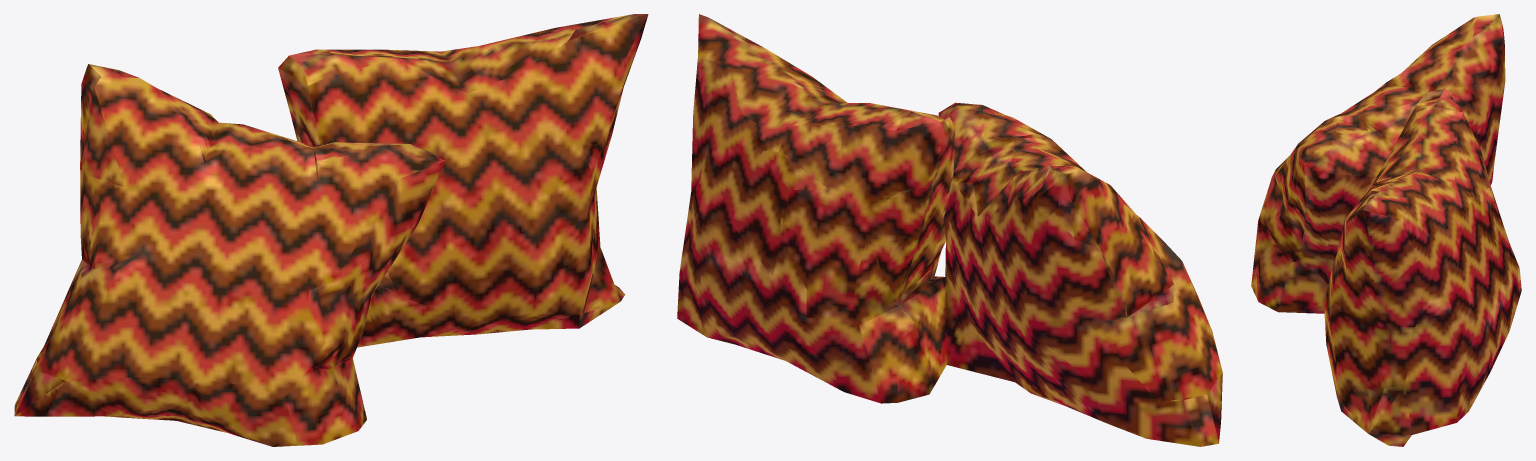
The model's file is throw_pillows_01.glb.
The picture shows the model from 3 angles, left to right: view 1: azimuth 30°, elevation 25°; view 2: azimuth 150°, elevation 25°; view 3: azimuth 270°, elevation 25°; orthographic projection. The views are drawn at different scales.
Visible parts, largest first — view 1: mesh; view 2: mesh; view 3: mesh.
Part boxes in pixels (x1,y1,x2,y2): mesh: (14, 14, 648, 446); mesh: (677, 14, 1222, 446); mesh: (1251, 14, 1521, 446).
Bounding box in the file's own units: 0.9363 × 0.4502 × 0.4482.
Materials: 1 (1 with a texture image).
